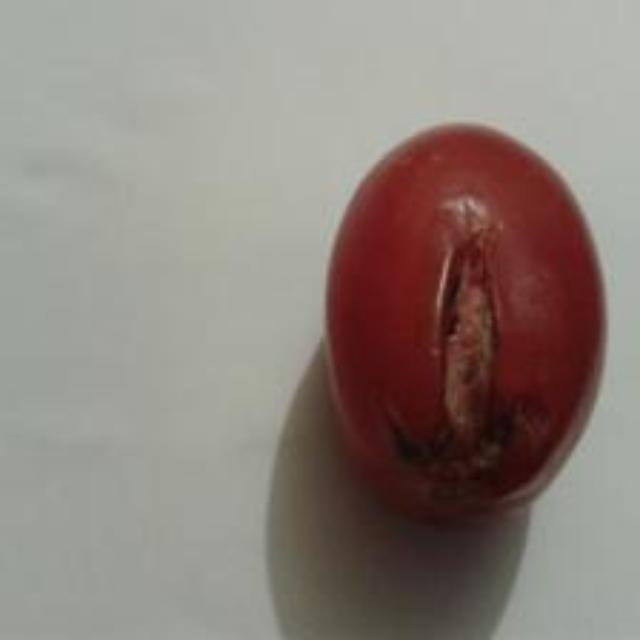defect: (320, 110, 610, 533)
